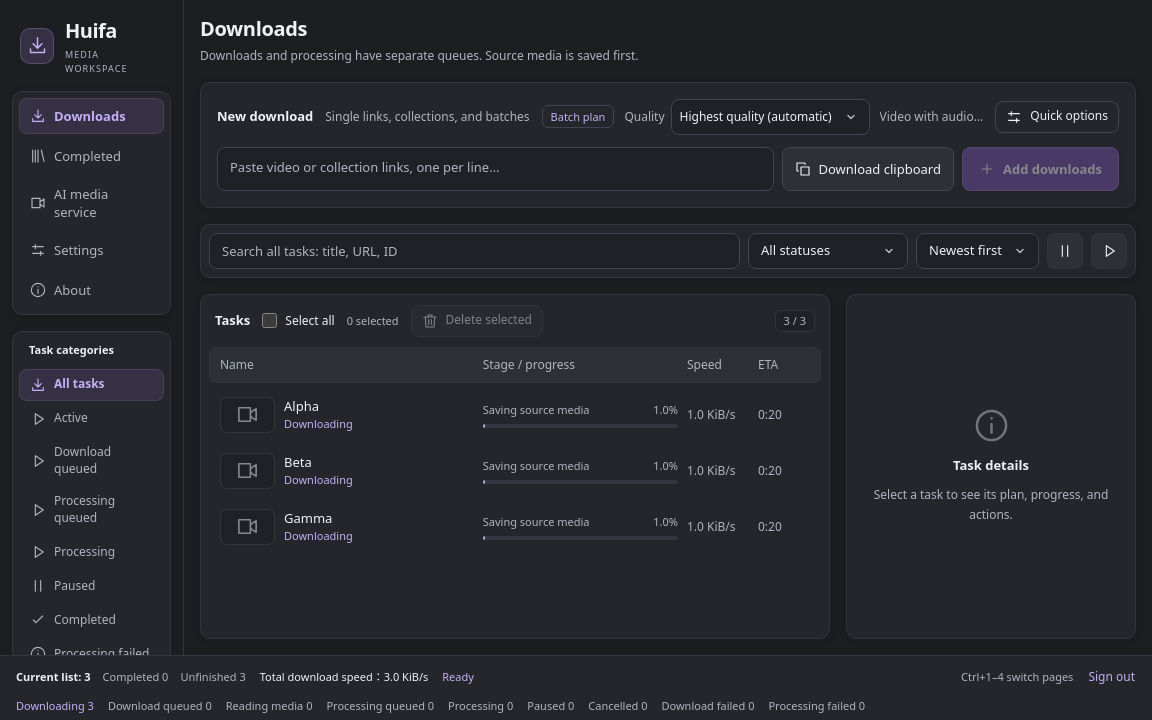
it: task list multiple selection › starts and reopens with no batch selection until the user selects tasks
expect the text "0 selected" is shown: met, box [347,312,399,329]
expect the text "Select a task to see its plan, progress, and actions." is shown: met, box [869,485,1113,524]
Click the option "Alpha Downloading Saving source media 1.0% 1.0 KiB/s 0:20". click: (515, 415)
box: [209,387,821,443]
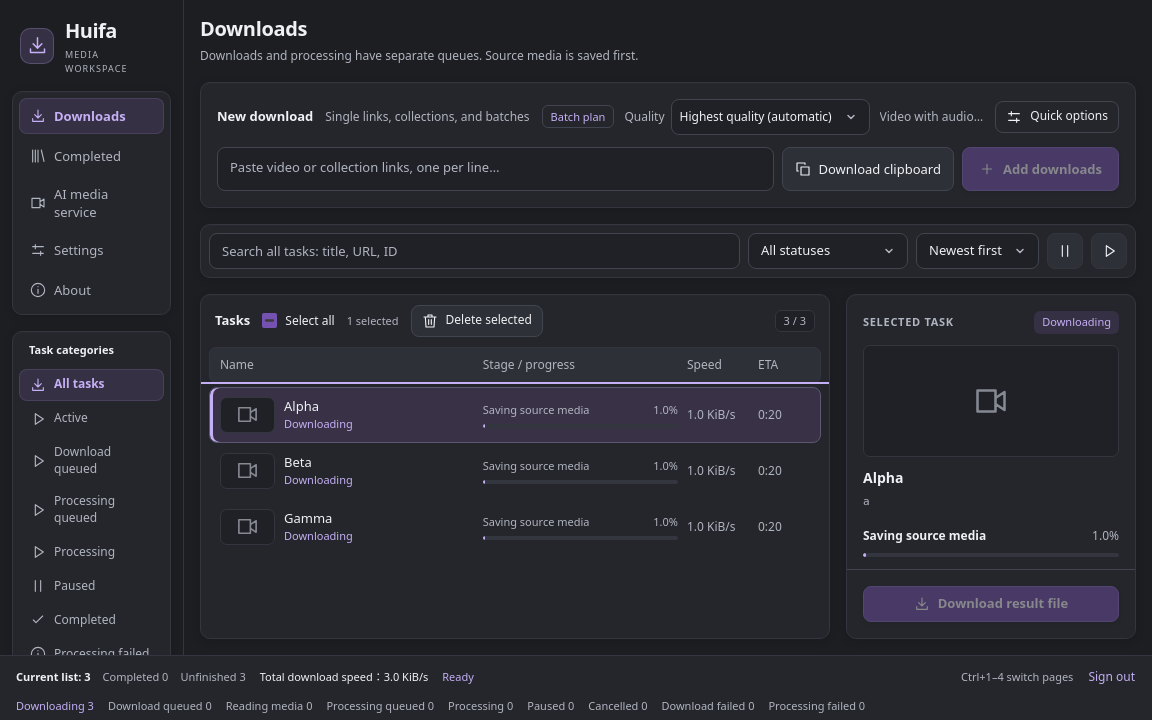
expect the text "1 selected" is shown: met, box [347,312,399,329]
Click the button "Settings". click: (92, 250)
box: [19,232,164,268]
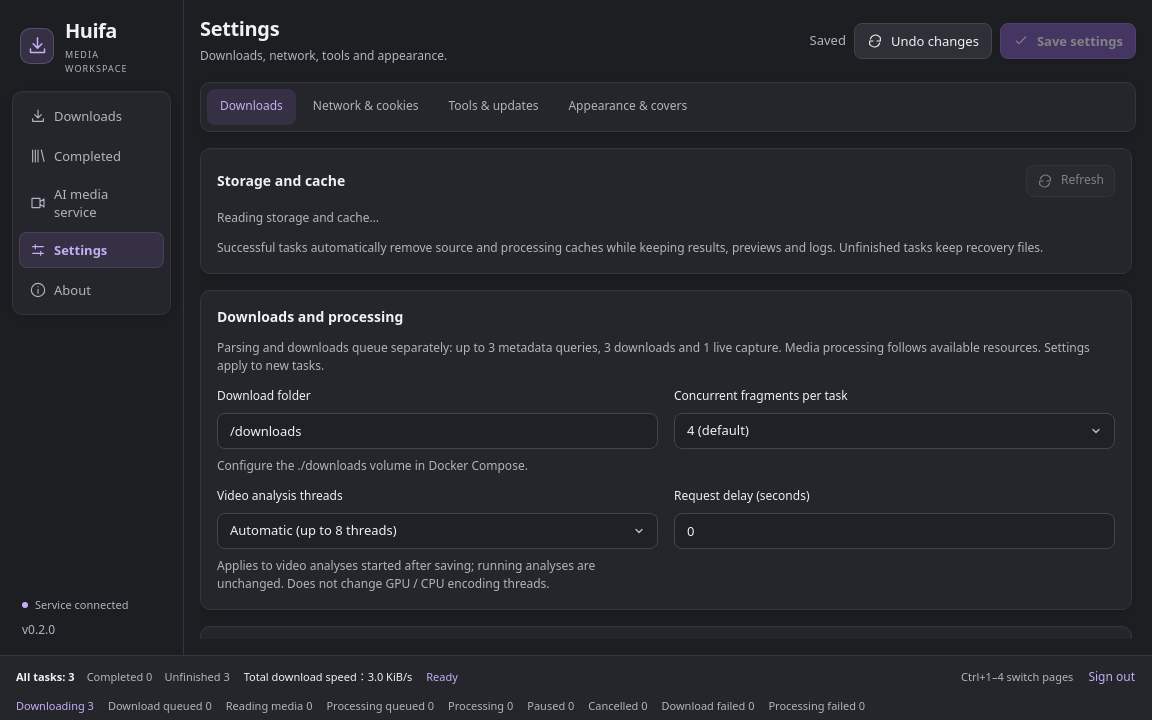
Click the button "Downloads" below "MEDIA WORKSPACE". click: (92, 116)
box: [19,98,164,134]
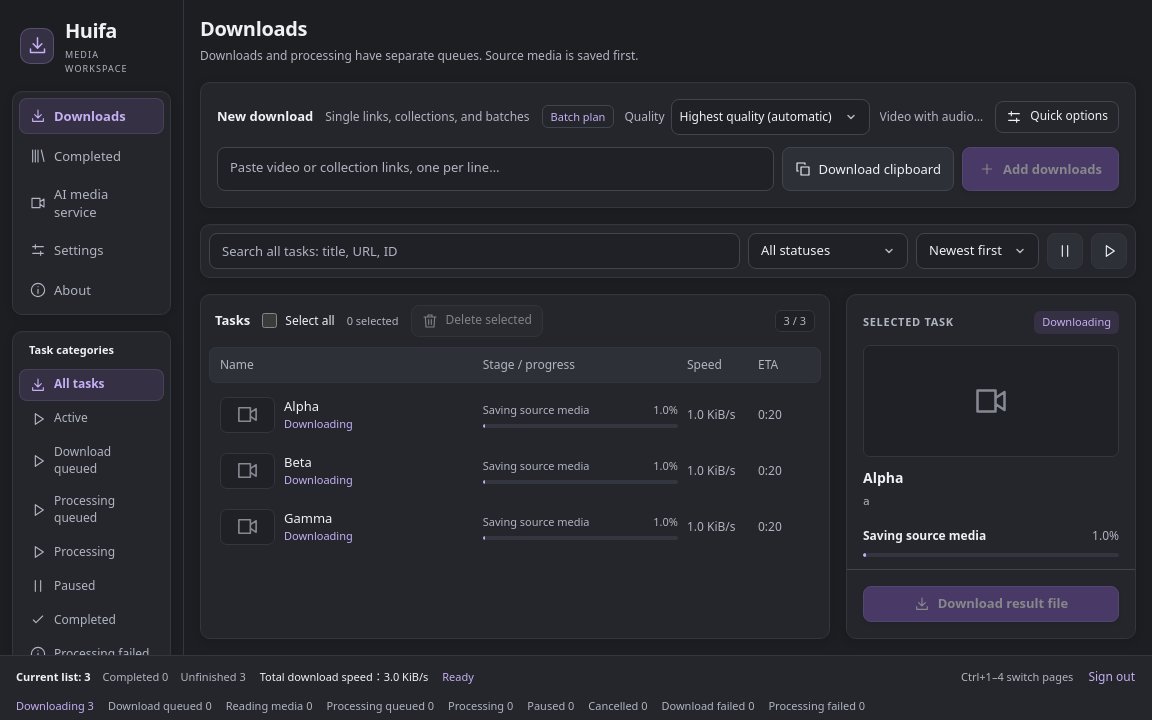
expect the text "0 selected" is shown: met, box [347,312,399,329]
expect the button "Delete selected" is disabled: met, box [411,305,543,337]
